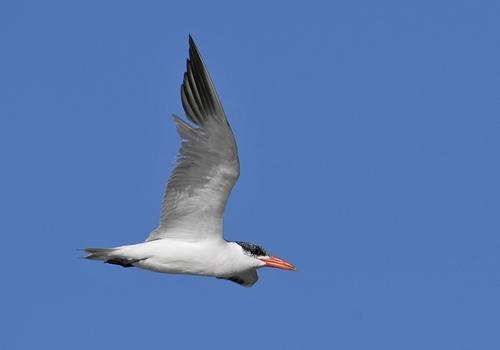bird: (78, 32, 299, 288)
